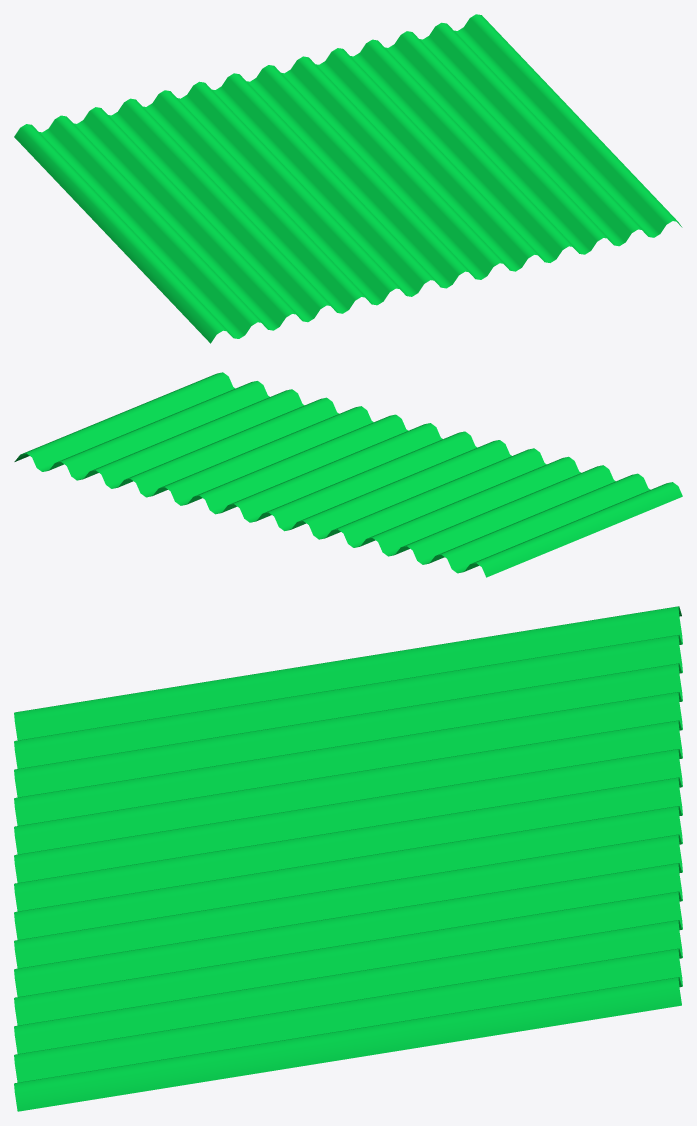
The model's file is Roof_02.fbx.
3 views of the same model, one above another, from view 1: azimuth 30°, elevation 25°; view 2: azimuth 150°, elevation 25°; view 3: azimuth 270°, elevation 25° (orthographic). The views are drawn at different scales.
Parts seen in each view (by area): view 1: Roof_02; view 2: Roof_02; view 3: Roof_02.
Boxes of the visible parts, <box> form: Roof_02: <box>14,14,682,343</box>; Roof_02: <box>14,372,682,577</box>; Roof_02: <box>14,606,682,1111</box>.
Size of the model in its own units: 871 by 135 by 633.
